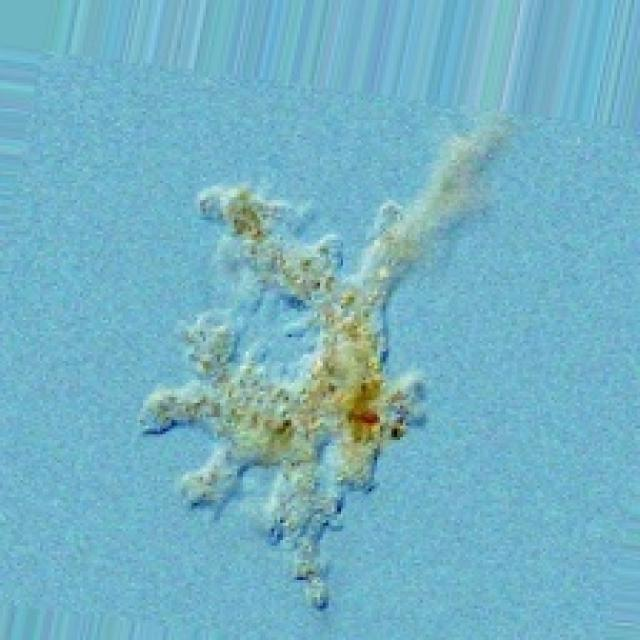Amoeba: (135, 106, 514, 611)
